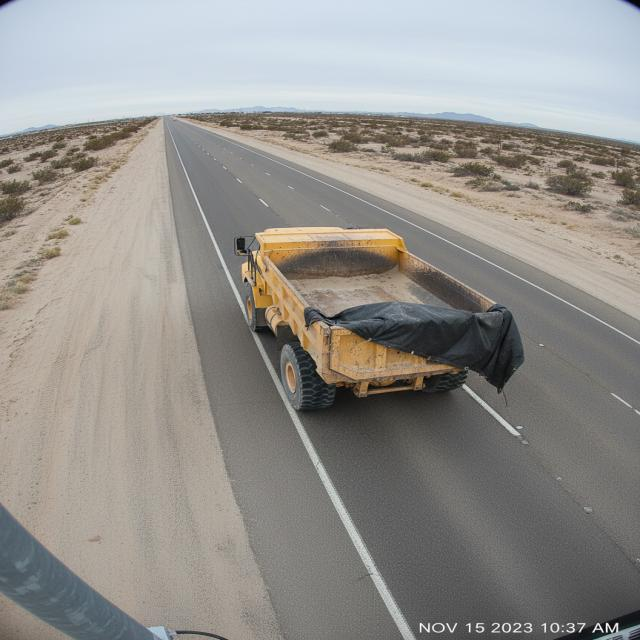trailer: (264, 240, 508, 340)
truck: (207, 213, 534, 413)
